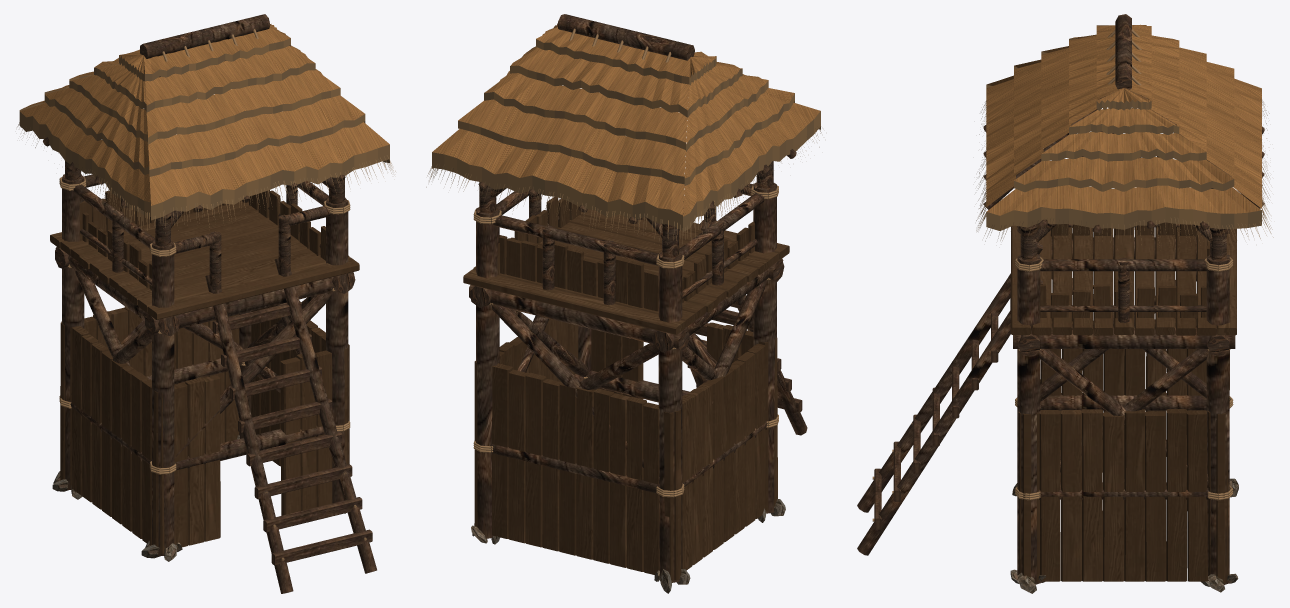
Rendered from tower_attached.glb.
3 views of the same model, side by side, from view 1: azimuth 30°, elevation 25°; view 2: azimuth 150°, elevation 25°; view 3: azimuth 270°, elevation 25° (orthographic). The views are drawn at different scales.
Visible parts, largest first — view 1: part_2, part_0, part_3, part_4, part_1, part_5; view 2: part_2, part_0, part_3, part_4, part_1, part_5; view 3: part_2, part_3, part_0, part_4, part_1, part_5.
Boxes of the visible parts, x1=… form: part_2: x1=50, y1=190, x2=359, y2=553; part_0: x1=43, y1=14, x2=376, y2=593; part_3: x1=20, y1=24, x2=389, y2=205; part_4: x1=17, y1=38, x2=395, y2=233; part_1: x1=59, y1=19, x2=366, y2=560; part_5: x1=52, y1=435, x2=345, y2=561; part_2: x1=463, y1=196, x2=789, y2=580; part_0: x1=469, y1=14, x2=807, y2=582; part_3: x1=432, y1=23, x2=820, y2=216; part_4: x1=426, y1=39, x2=821, y2=247; part_1: x1=473, y1=18, x2=778, y2=497; part_5: x1=471, y1=499, x2=785, y2=593; part_2: x1=1011, y1=222, x2=1236, y2=583; part_3: x1=986, y1=24, x2=1261, y2=215; part_0: x1=857, y1=14, x2=1264, y2=584; part_4: x1=976, y1=38, x2=1273, y2=249; part_1: x1=872, y1=22, x2=1233, y2=521; part_5: x1=1010, y1=478, x2=1238, y2=593.
Bounding box in the file's own units: 2.57 × 4.59 × 3.5.
Materials: 6 (4 with a texture image).
